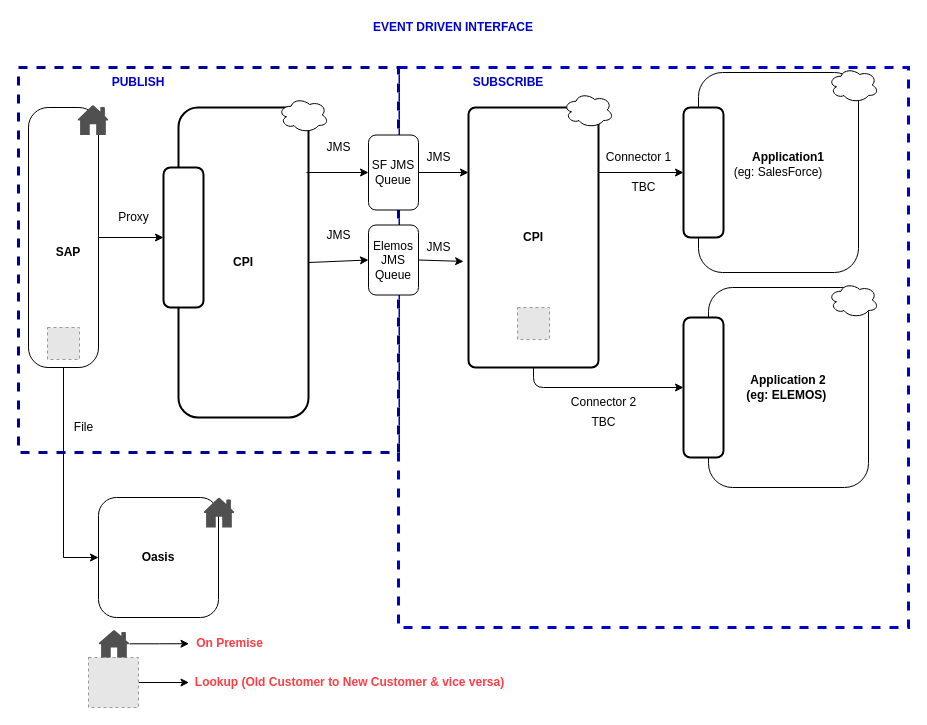
This 927x725 diagram has some shape labels left out. Grey dashed boxes stand in for pictures. The centre of each missing label's shape, as x and y in pixels:
AMCS Public api'S: point (703, 387)
Event Bus (or) API tbd: point (703, 172)
SAP Cloud Conne ctor: point (183, 237)
